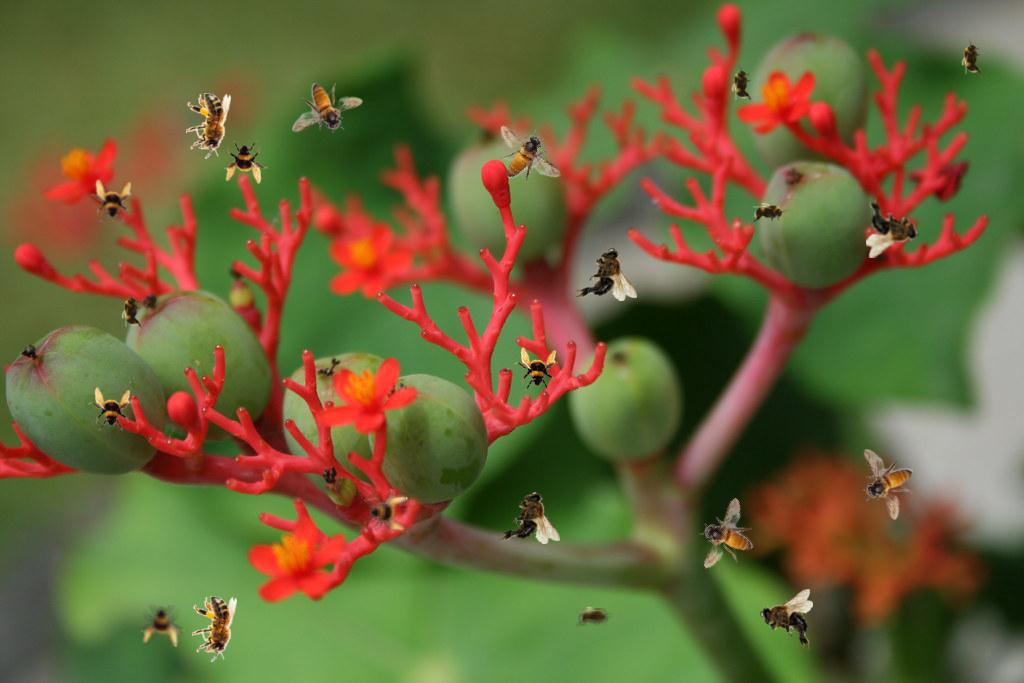Bee: (682, 496, 770, 581), (485, 111, 563, 198), (863, 449, 913, 520), (292, 83, 363, 133), (498, 491, 560, 544), (866, 196, 919, 258), (575, 248, 637, 301), (760, 589, 813, 651), (186, 93, 231, 159), (192, 596, 237, 662), (88, 178, 134, 224), (514, 347, 558, 391), (224, 140, 268, 184), (141, 603, 185, 647), (88, 387, 132, 431), (364, 489, 408, 533), (574, 606, 614, 628), (749, 202, 789, 224), (961, 38, 983, 78), (731, 64, 753, 104), (121, 291, 143, 331)
